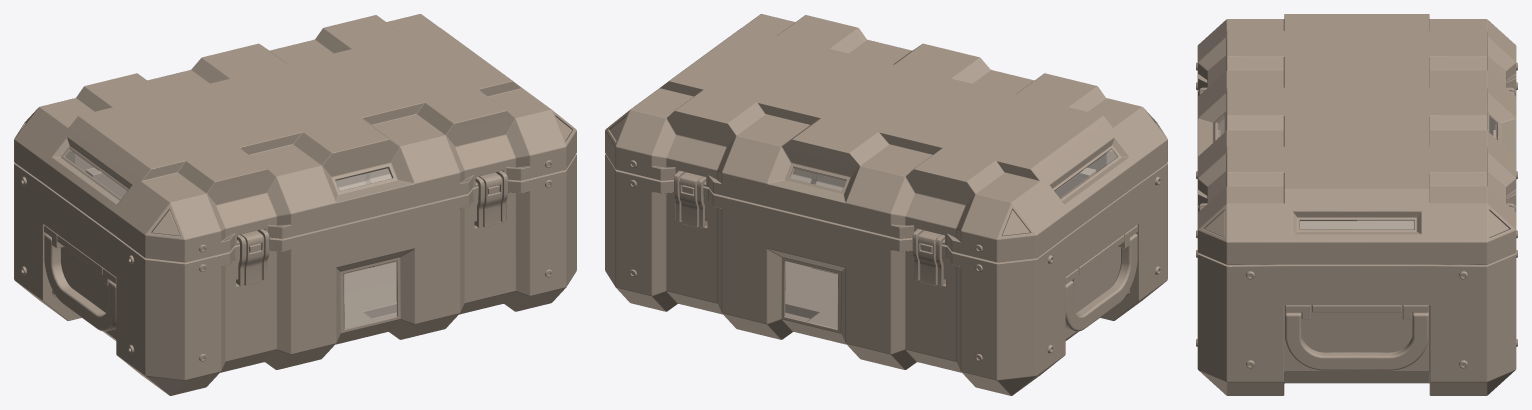
3 views of the same model, side by side, from view 1: azimuth 30°, elevation 25°; view 2: azimuth 150°, elevation 25°; view 3: azimuth 270°, elevation 25° (orthographic).
Parts seen in each view (by area): view 1: Scifi_Crate, Cube.001, Cube.002, Cube.003; view 2: Scifi_Crate, Cube.001, Cube.002, Cube.003; view 3: Scifi_Crate, Cube.002, Cube.003.
Boxes of the visible parts, bbox=[...] form: Scifi_Crate: bbox=[14, 14, 576, 395]; Cube.001: bbox=[236, 171, 507, 286]; Cube.002: bbox=[44, 233, 116, 331]; Cube.003: bbox=[44, 225, 116, 285]; Scifi_Crate: bbox=[605, 14, 1167, 395]; Cube.001: bbox=[674, 171, 945, 286]; Cube.002: bbox=[1065, 233, 1137, 331]; Cube.003: bbox=[1065, 225, 1137, 285]; Scifi_Crate: bbox=[1197, 14, 1516, 395]; Cube.002: bbox=[1285, 312, 1428, 370]; Cube.003: bbox=[1285, 305, 1428, 319].
Size of the model in its own units: 2.84 by 1.26 by 1.82.
